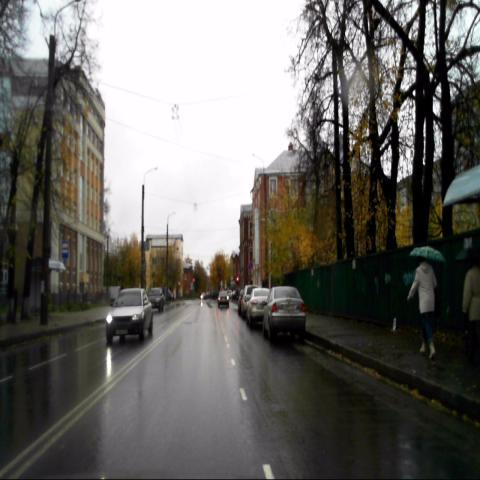5_16: (62, 241, 68, 257)
